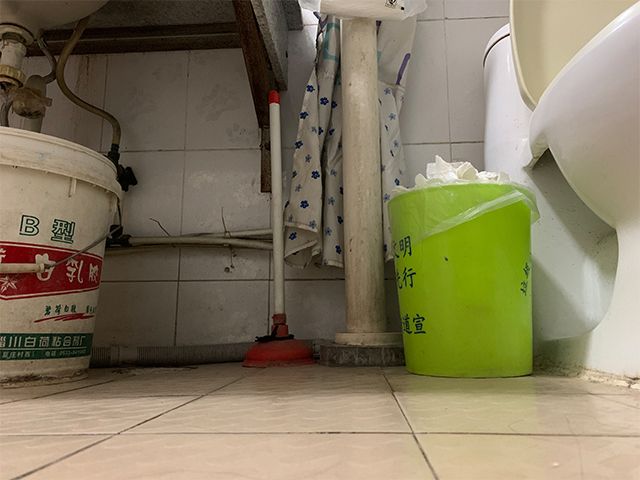closestool: (483, 1, 640, 390)
trashcan: (386, 179, 538, 379)
